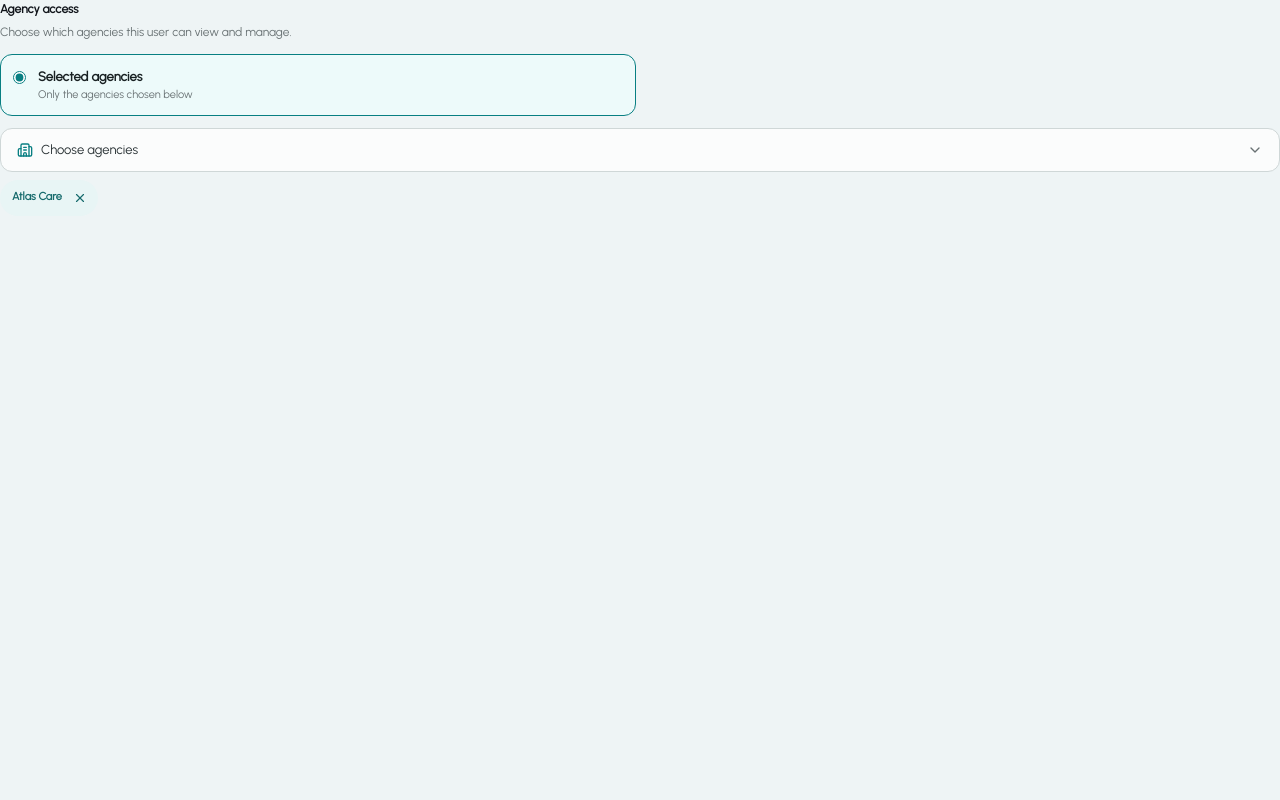
Test case: AgencyScopeField › keeps restricted creators in selected mode and supports selection removal
The image size is (1280, 800).
Later steps or results of the test are not shown.
Expected: the text "Atlas Care" is shown, top-left (12, 189), bottom-right (62, 206)
Click the button named "Remove Atlas Care". click: (80, 198)
box: top-left (68, 186), bottom-right (92, 210)
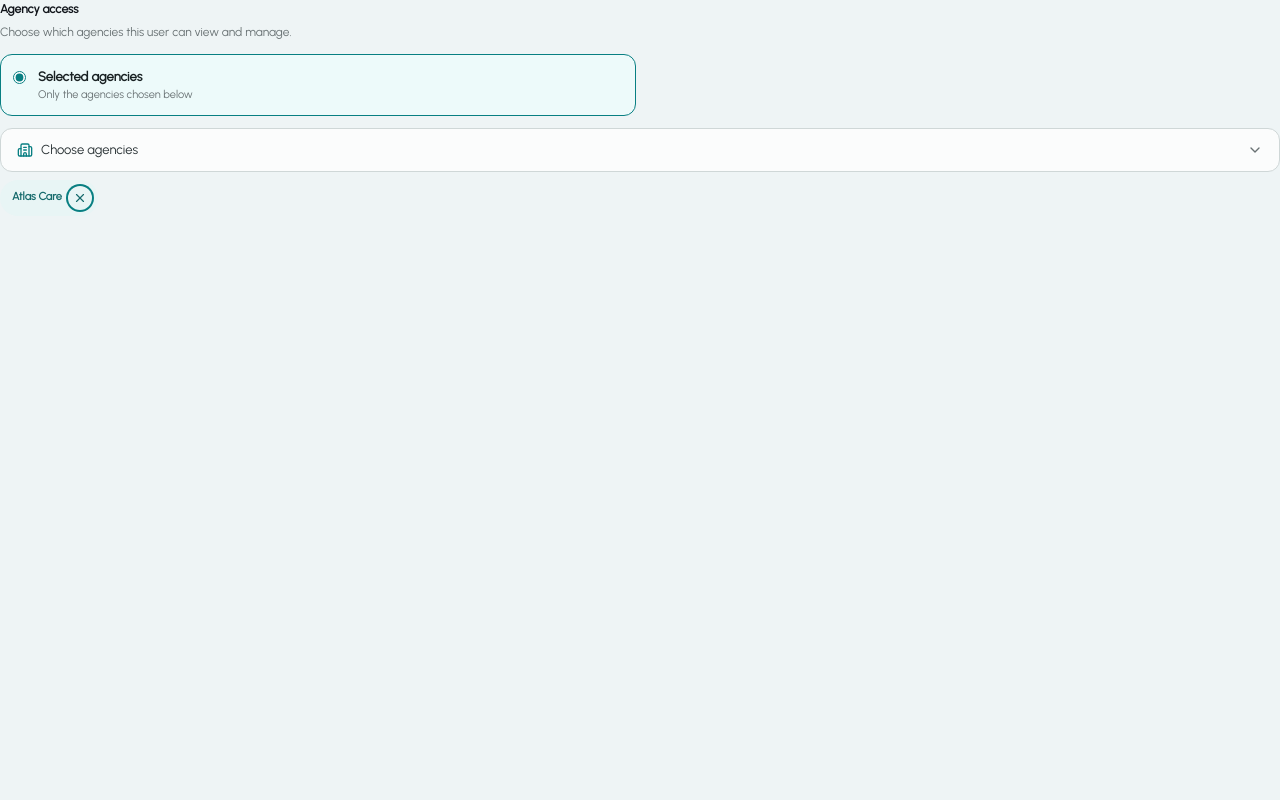
Click the button "Choose agencies". click: (90, 149)
box: top-left (0, 128), bottom-right (1279, 172)
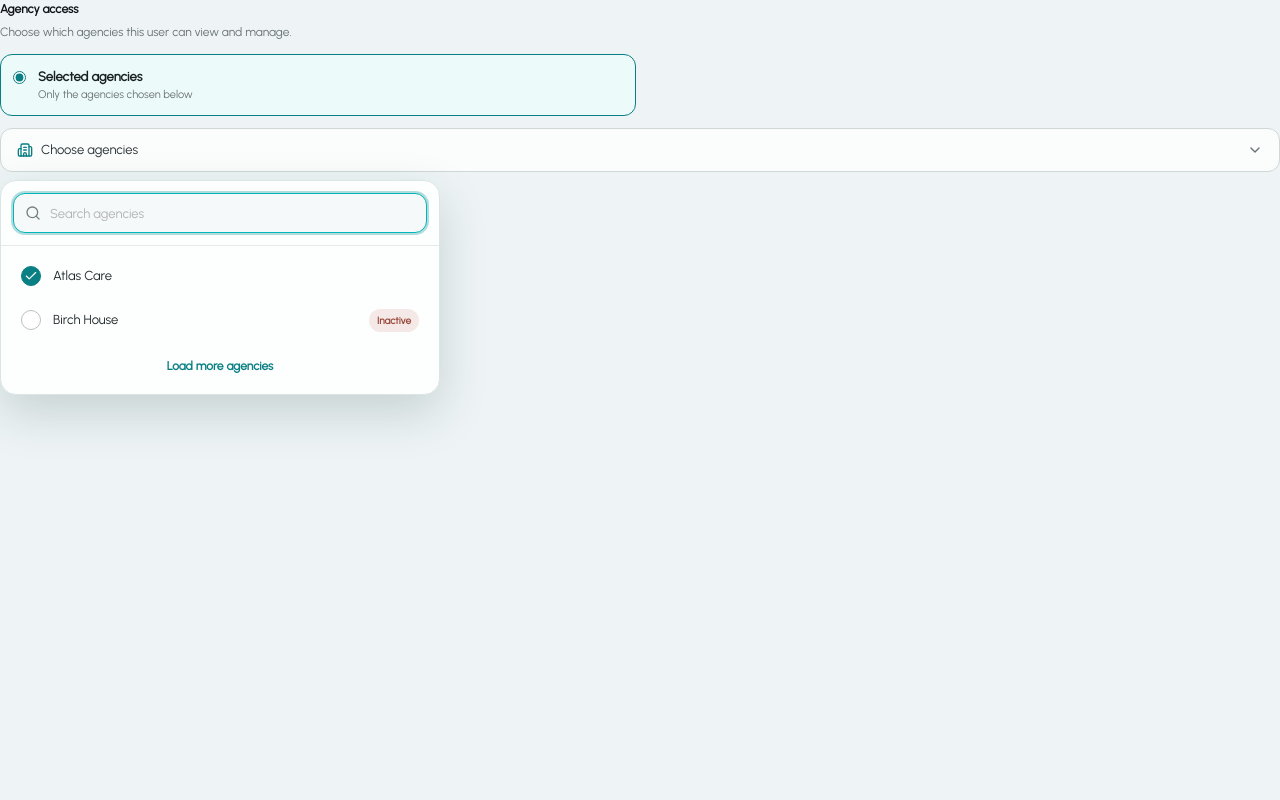
Now the text "Inactive" is shown, box top-left (369, 308), bottom-right (419, 332)
